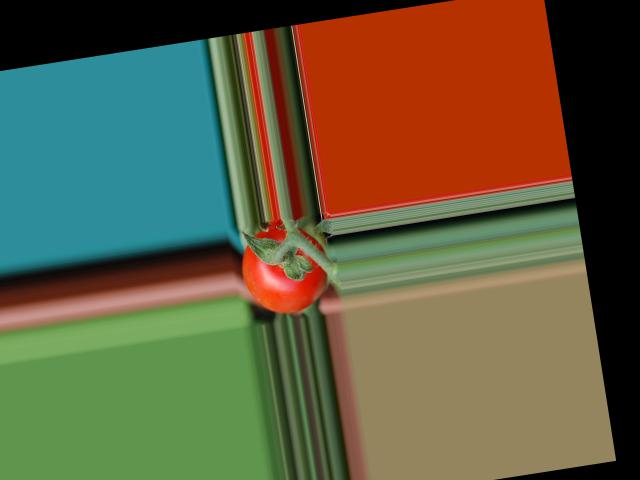tomato: (235, 214, 334, 318)
